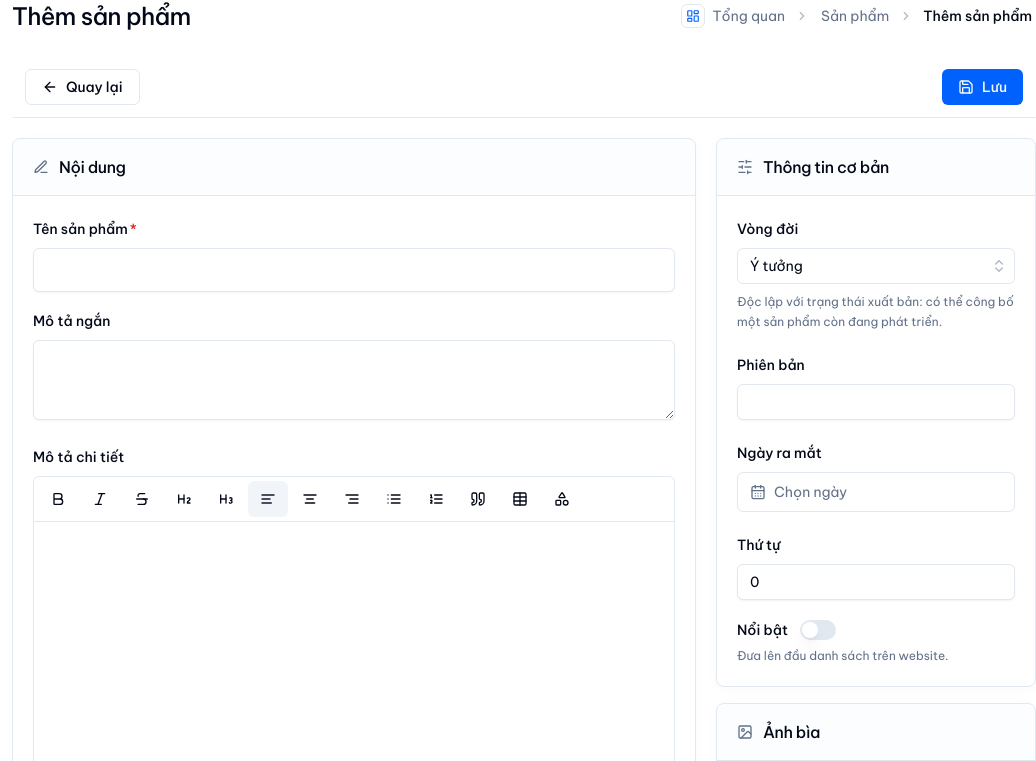
Test: ProductEditor › refuses a javascript: demo link before it reaches the server
Type "Test" into the field labelled "Tên sản phẩm*" at x=354, y=270, box [33, 248, 675, 292]
(page scrolled)
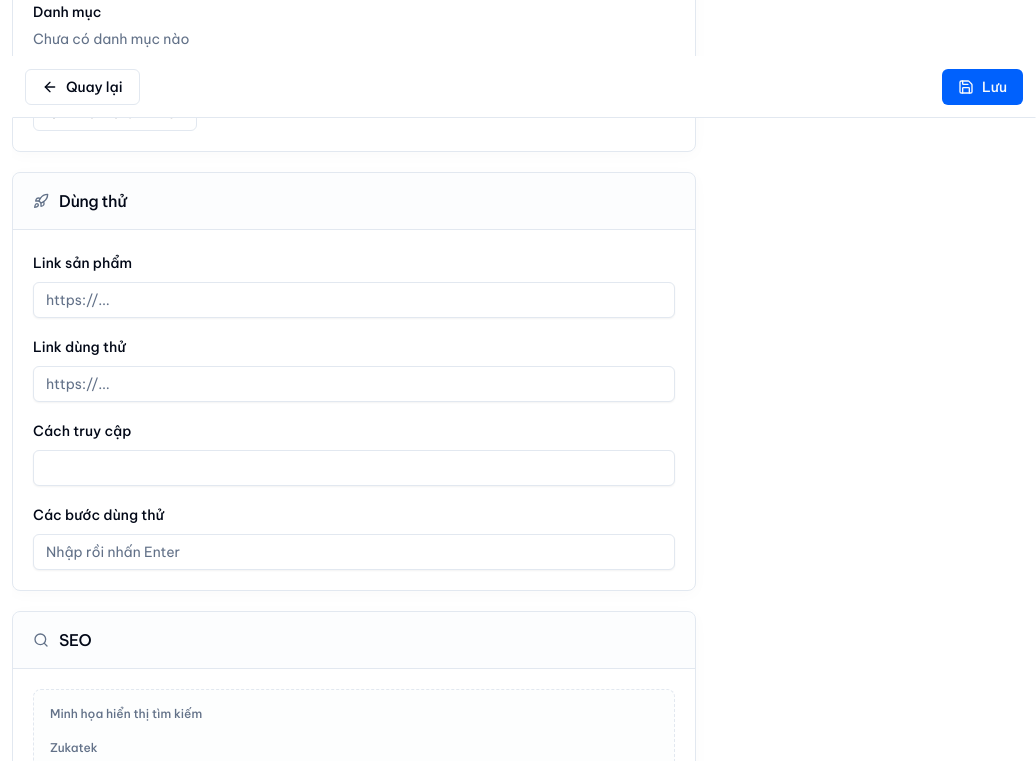
Type "javascript:alert(1)" into the field labelled "Link dùng thử" at x=354, y=384, box [33, 366, 675, 402]
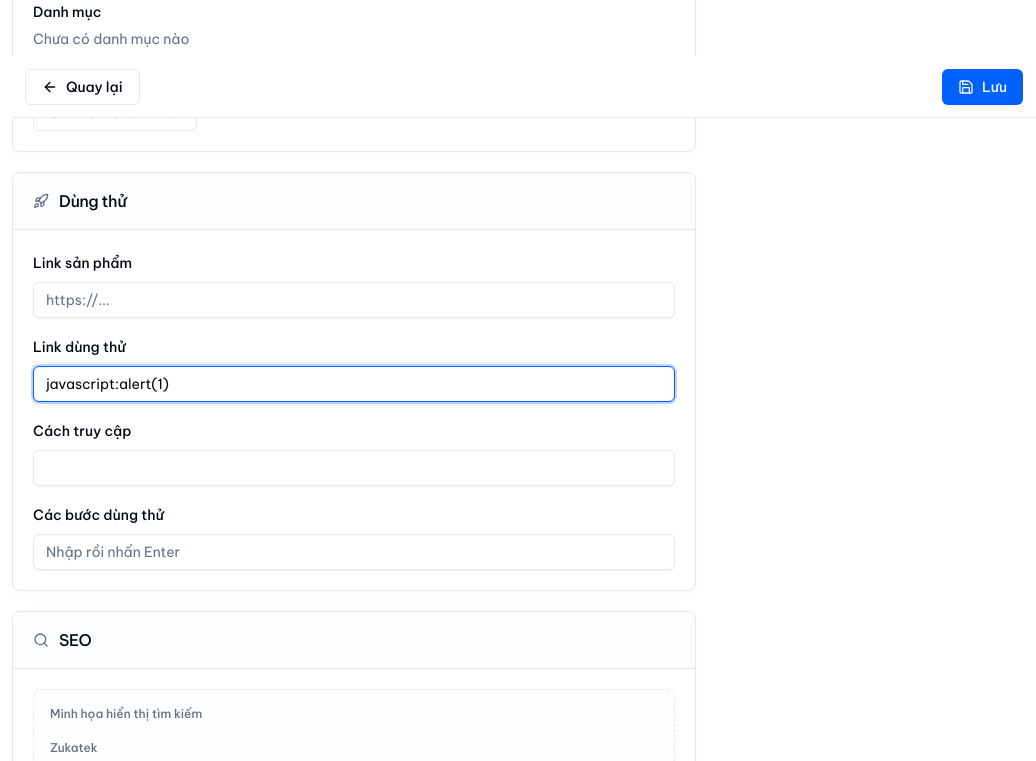
Click the button "Lưu" at x=982, y=87, box [942, 69, 1023, 105]
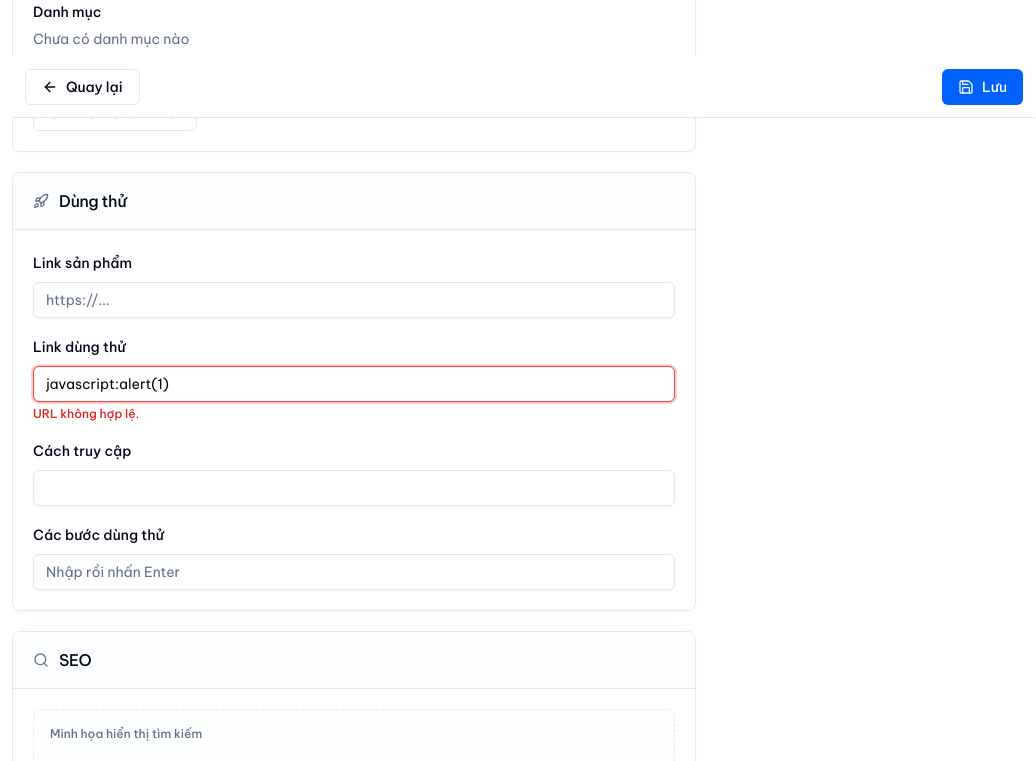
Now the text "URL không hợp lệ." is shown, box [33, 406, 139, 421]
